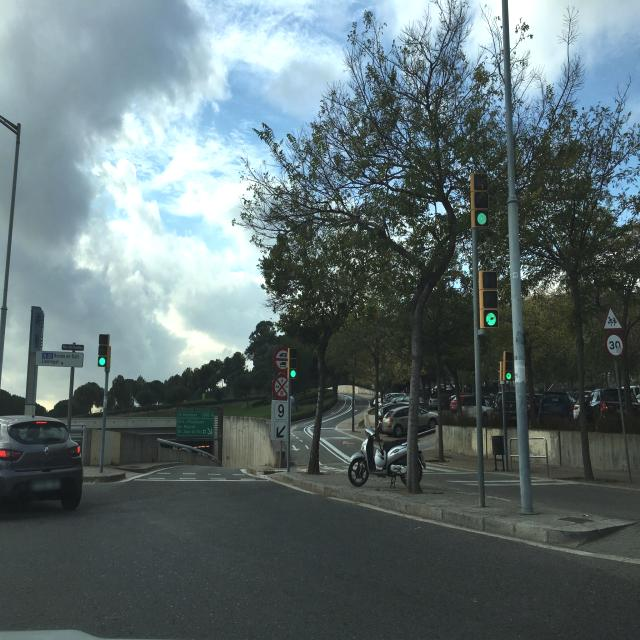bike: (348, 430, 410, 488)
car: (0, 413, 84, 517), (576, 387, 640, 431), (379, 401, 438, 438), (496, 390, 538, 426), (456, 393, 497, 427), (537, 390, 578, 424), (428, 396, 440, 410)
